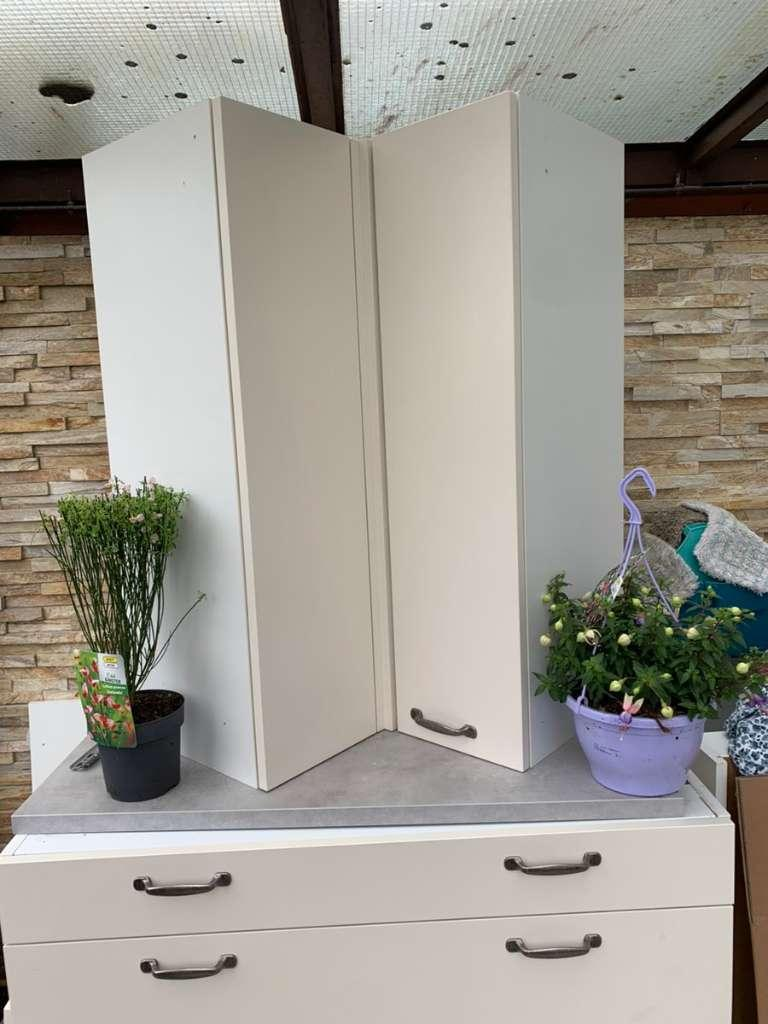cabinet_door: (218, 108, 378, 762), (370, 120, 523, 752), (7, 920, 729, 1022), (2, 834, 732, 926)
handle: (501, 844, 604, 884), (503, 929, 602, 970), (135, 951, 239, 988), (130, 871, 232, 903), (406, 703, 482, 745)
